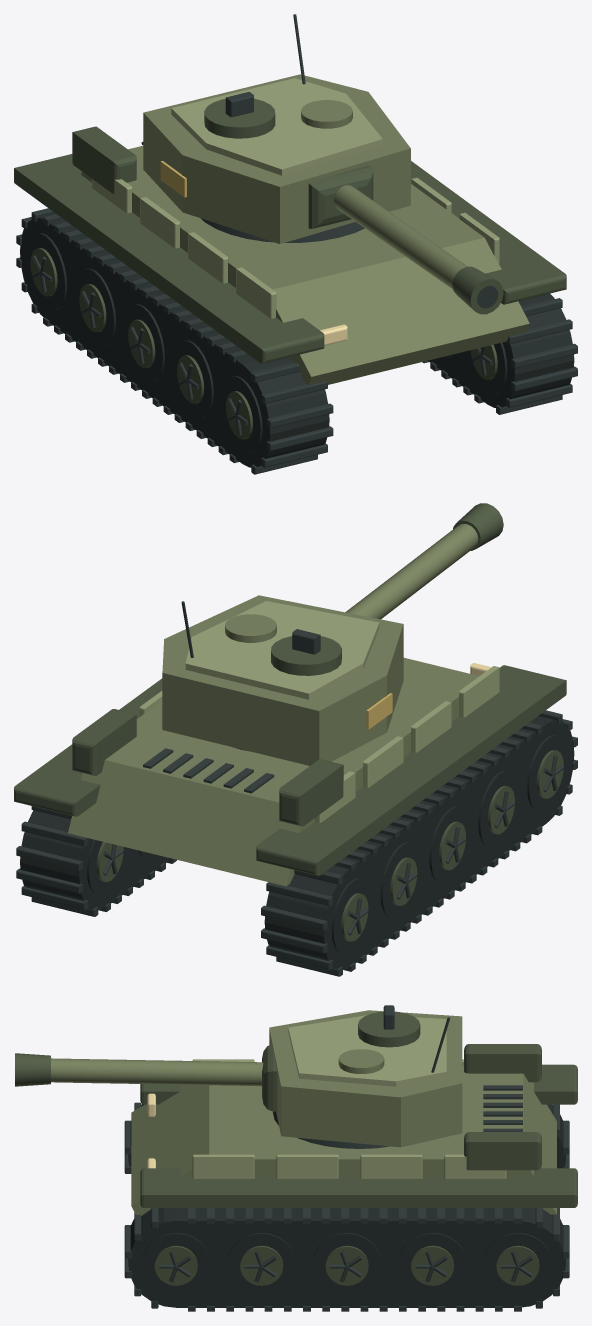
The model's file is tank.glb.
The picture shows the model from 3 angles, top to bottom: view 1: azimuth 30°, elevation 25°; view 2: azimuth 150°, elevation 25°; view 3: azimuth 270°, elevation 25°; orthographic projection. The views are drawn at different scales.
Visible parts, largest first — view 1: armored_hull_olive, tracks_rubber, track_guards_oliveDark, turret_olive, track_links_dark, turret_roof_oliveLight, road_wheels_rubber, side_armor_oliveLight, road_wheels_oliveDark, barrel_olive, stowage_oliveDark, mantlet_oliveDark (+6 smaller); view 2: armored_hull_olive, tracks_rubber, track_guards_oliveDark, turret_olive, track_links_dark, turret_roof_oliveLight, road_wheels_rubber, stowage_oliveDark, side_armor_oliveLight, road_wheels_oliveDark, barrel_olive, hatches_oliveDark (+5 smaller); view 3: tracks_rubber, armored_hull_olive, track_guards_oliveDark, turret_olive, road_wheels_rubber, turret_roof_oliveLight, track_links_dark, side_armor_oliveLight, road_wheels_oliveDark, stowage_oliveDark, barrel_olive, road_wheels_dark (+6 smaller).
Part boxes in pixels (x1,y1,x2,y2): armored_hull_olive: [81, 145, 529, 385]; tracks_rubber: [20, 214, 574, 467]; track_guards_oliveDark: [14, 154, 566, 363]; turret_olive: [143, 74, 410, 243]; track_links_dark: [16, 208, 577, 474]; turret_roof_oliveLight: [171, 78, 382, 175]; road_wheels_rubber: [25, 233, 507, 453]; side_armor_oliveLight: [92, 177, 499, 318]; road_wheels_oliveDark: [30, 248, 497, 439]; barrel_olive: [334, 185, 467, 289]; stowage_oliveDark: [72, 126, 136, 193]; mantlet_oliveDark: [308, 165, 373, 228]; armored_hull_olive: [68, 657, 501, 886]; tracks_rubber: [20, 716, 574, 969]; track_guards_oliveDark: [14, 665, 566, 875]; turret_olive: [162, 595, 403, 765]; track_links_dark: [16, 710, 577, 976]; turret_roof_oliveLight: [185, 601, 379, 699]; road_wheels_rubber: [87, 735, 568, 955]; stowage_oliveDark: [72, 709, 343, 826]; side_armor_oliveLight: [140, 666, 499, 822]; road_wheels_oliveDark: [96, 750, 563, 941]; barrel_olive: [345, 524, 478, 619]; hatches_oliveDark: [271, 636, 341, 675]; tracks_rubber: [128, 1104, 565, 1307]; armored_hull_olive: [131, 1066, 556, 1215]; track_guards_oliveDark: [140, 1064, 577, 1207]; turret_olive: [269, 1010, 462, 1147]; road_wheels_rubber: [141, 1233, 552, 1296]; turret_roof_oliveLight: [288, 1015, 446, 1086]; track_links_dark: [124, 1102, 569, 1311]; side_armor_oliveLight: [192, 1059, 506, 1178]; road_wheels_oliveDark: [154, 1245, 539, 1285]; stowage_oliveDark: [464, 1044, 541, 1170]; barrel_olive: [51, 1058, 263, 1086]; road_wheels_dark: [159, 1251, 532, 1282].
Size of the model in its own units: 1.37 by 1.18 by 2.4.
